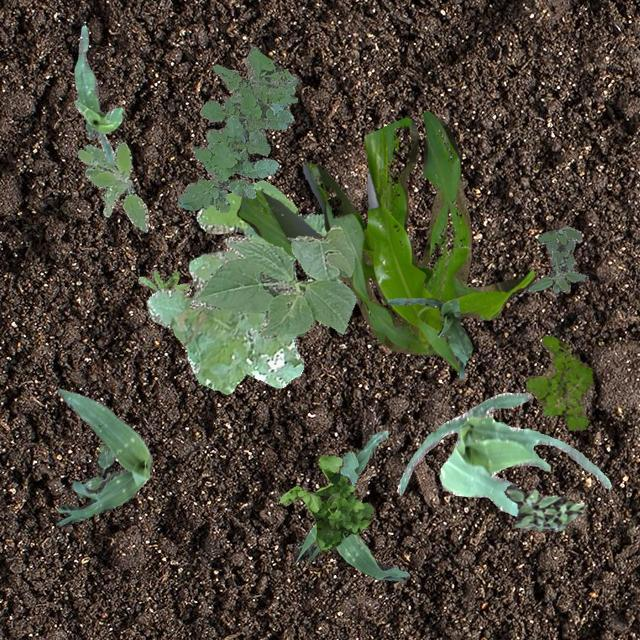crop: (236, 110, 534, 370), (396, 392, 610, 514), (188, 225, 356, 336), (294, 428, 408, 580), (56, 388, 152, 526), (386, 296, 472, 378), (72, 25, 122, 162)
weed: (146, 178, 326, 394), (176, 45, 296, 212), (278, 452, 374, 552), (524, 334, 592, 430), (76, 142, 148, 232), (524, 225, 586, 292), (504, 484, 582, 530), (78, 443, 119, 498), (136, 268, 188, 292)
